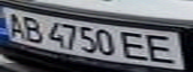0: (93, 27, 118, 57)
4: (42, 19, 63, 48)
5: (78, 25, 100, 54)
7: (60, 21, 81, 51)
A: (0, 9, 30, 39)
B: (18, 14, 45, 43)
E: (142, 32, 187, 65), (118, 29, 154, 61)
